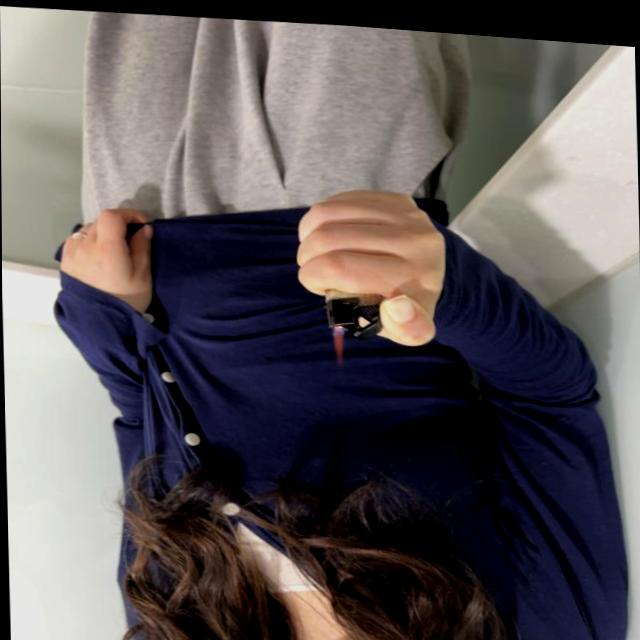helmet: (330, 317, 345, 351)
